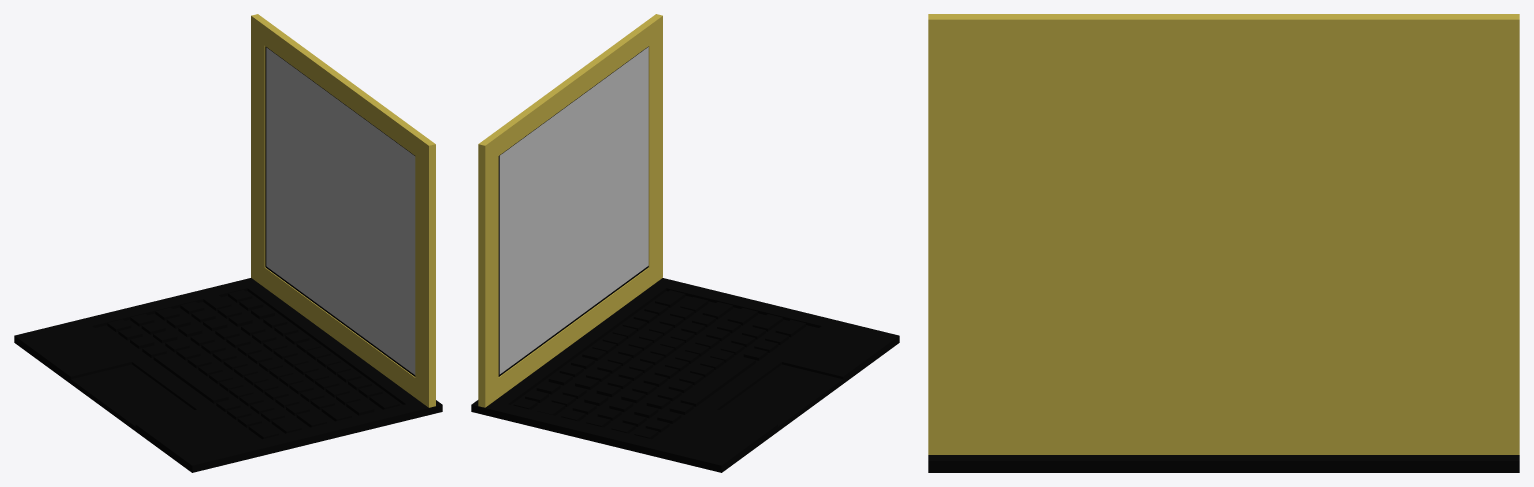
Rendered from NO TEXTURE computer.obj.
3 views of the same model, side by side, from view 1: azimuth 30°, elevation 25°; view 2: azimuth 150°, elevation 25°; view 3: azimuth 270°, elevation 25° (orthographic). The views are drawn at different scales.
Parts seen in each view (by area): view 1: videoblocks-3d-hacking-code-data-flow-stream-on-green-computer-, Cube, Cube.001, Cube.085, Cube.003; view 2: videoblocks-3d-hacking-code-data-flow-stream-on-green-computer-, Cube, Cube.001, Cube.085, Cube.003; view 3: Cube.001, Cube.
Boxes of the visible parts, x1,y1,x2,y2 form: videoblocks-3d-hacking-code-data-flow-stream-on-green-computer-: [266, 47, 415, 374]; Cube: [14, 278, 442, 472]; Cube.001: [251, 14, 435, 407]; Cube.085: [153, 353, 228, 403]; Cube.003: [265, 46, 415, 376]; videoblocks-3d-hacking-code-data-flow-stream-on-green-computer-: [499, 47, 648, 374]; Cube: [471, 278, 899, 472]; Cube.001: [478, 14, 662, 407]; Cube.085: [680, 356, 755, 406]; Cube.003: [498, 46, 648, 376]; Cube.001: [928, 14, 1519, 454]; Cube: [928, 455, 1519, 472].
Size of the model in its own units: 1.82 by 1.87 by 2.24.
